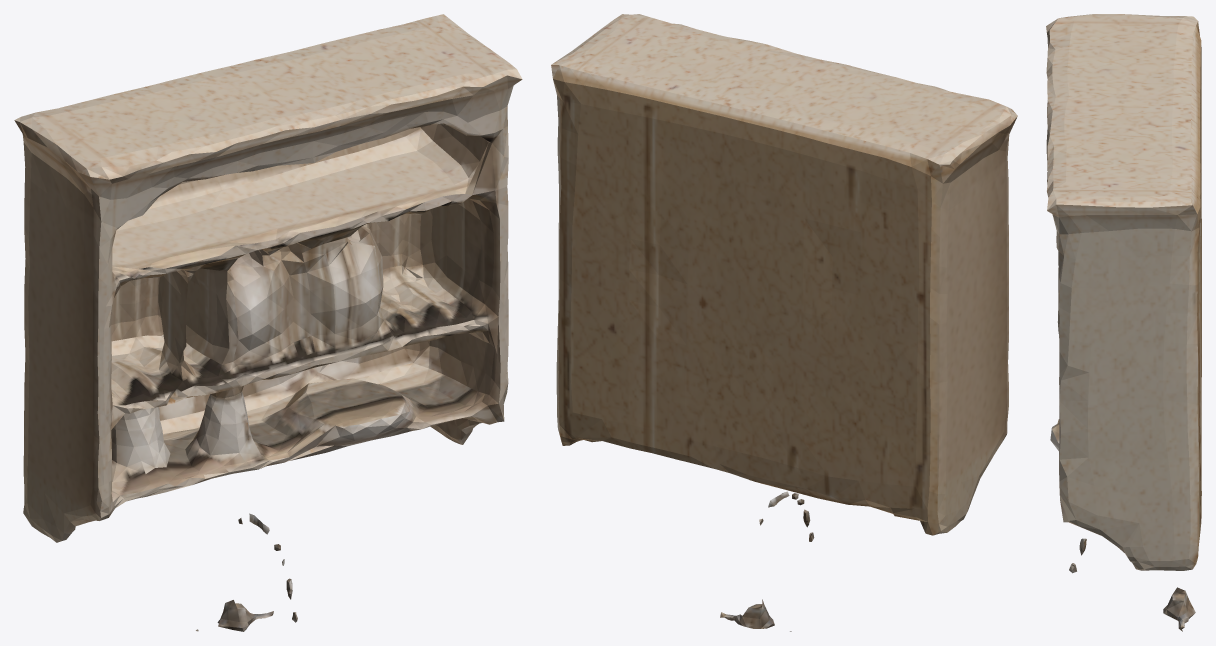
Rendered from KitchenWallCabinet.fbx.
3 views of the same model, side by side, from view 1: azimuth 30°, elevation 25°; view 2: azimuth 150°, elevation 25°; view 3: azimuth 270°, elevation 25° (orthographic). The views are drawn at different scales.
Parts seen in each view (by area): view 1: KitchenWallCabinet_Low; view 2: KitchenWallCabinet_Low; view 3: KitchenWallCabinet_Low.
Part boxes in pixels (box(x1,y1,x2,y2)): KitchenWallCabinet_Low: box(14, 14, 522, 631); KitchenWallCabinet_Low: box(551, 14, 1017, 631); KitchenWallCabinet_Low: box(1046, 14, 1201, 631).
Size of the model in its own units: 1.08 by 1.35 by 0.3738.
